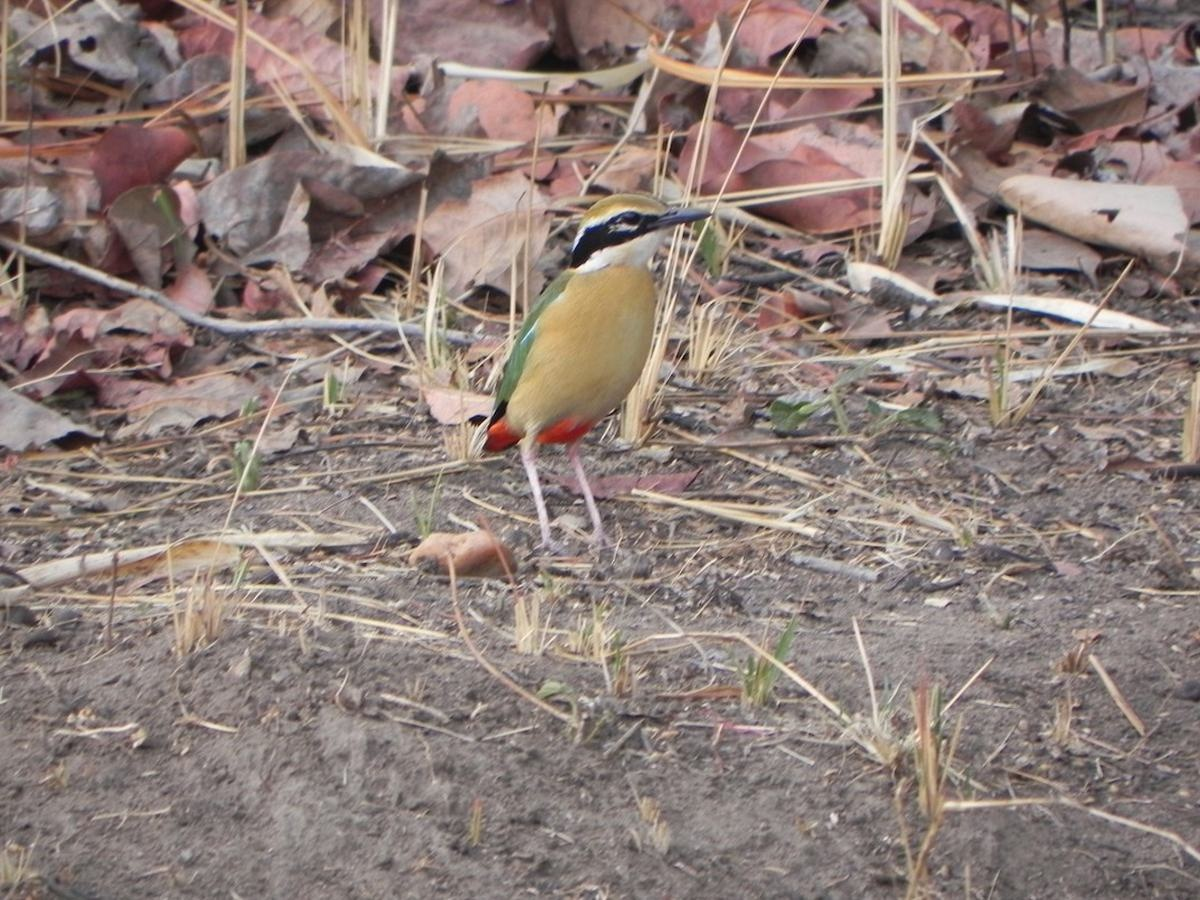pitta: (453, 148, 751, 560)
